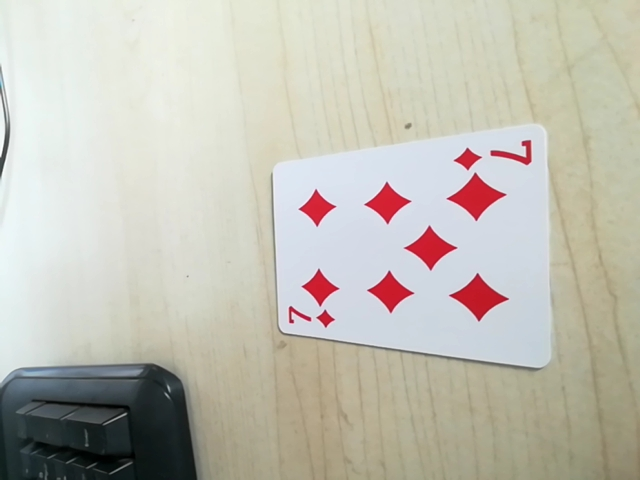fk 7: (455, 134, 536, 174), (280, 304, 340, 333)
